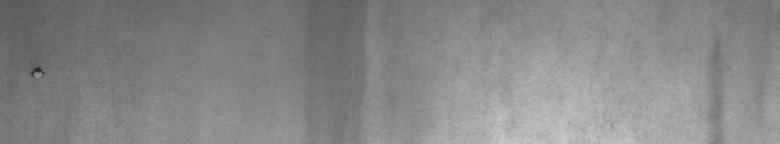fi: (29, 60, 47, 80)
